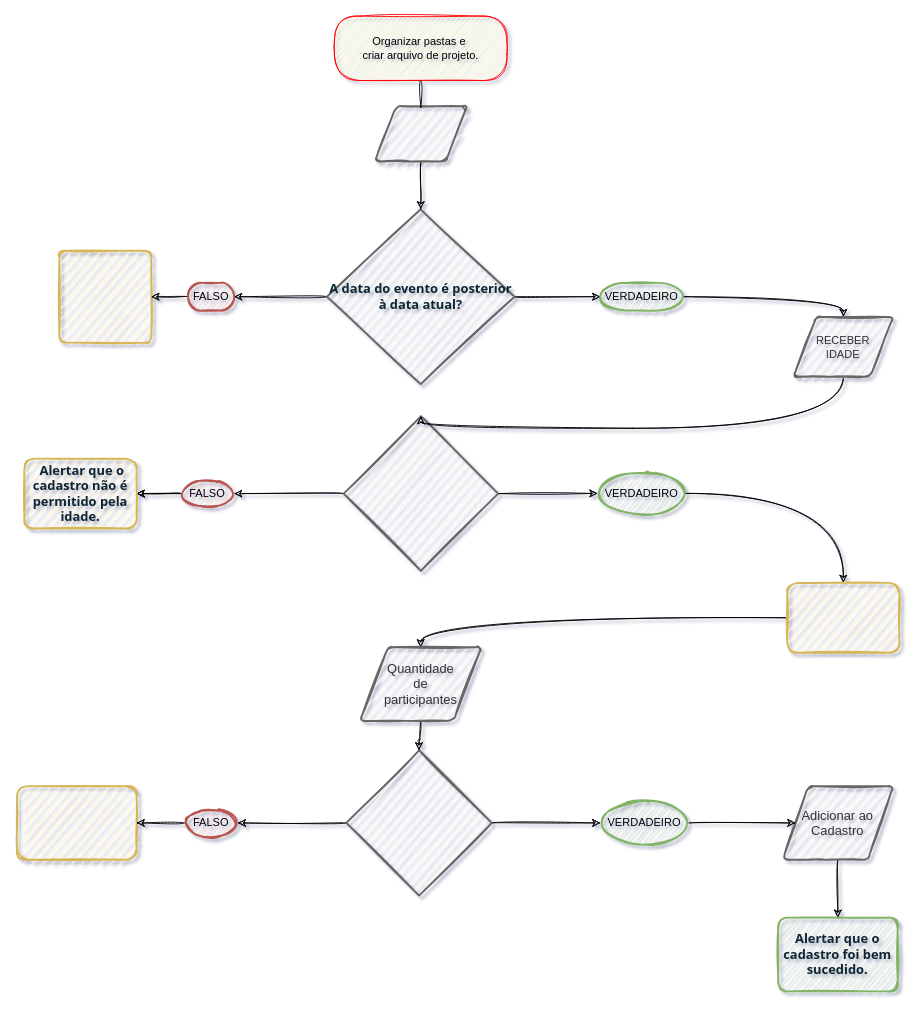
The diagram is 922 pixels wide and 1014 high, and some of its shapes have lost their labels. Here are the shapes that lost their labels. From the top down, the box of each, then its label:
(374, 105, 467, 162): RECEBER DATA
(58, 249, 152, 343): Alertar que o cadastro não será permitido por data inválida.
(342, 415, 499, 571): O participante tem mais de 18 anos?
(786, 581, 900, 653): Listar participantes e palestrantes por evento.
(16, 785, 137, 860): Alertar que o cadastro não será permitido por ter excedido o limite.
(345, 749, 492, 896): Quantidade de participantes é inferior a 100?
